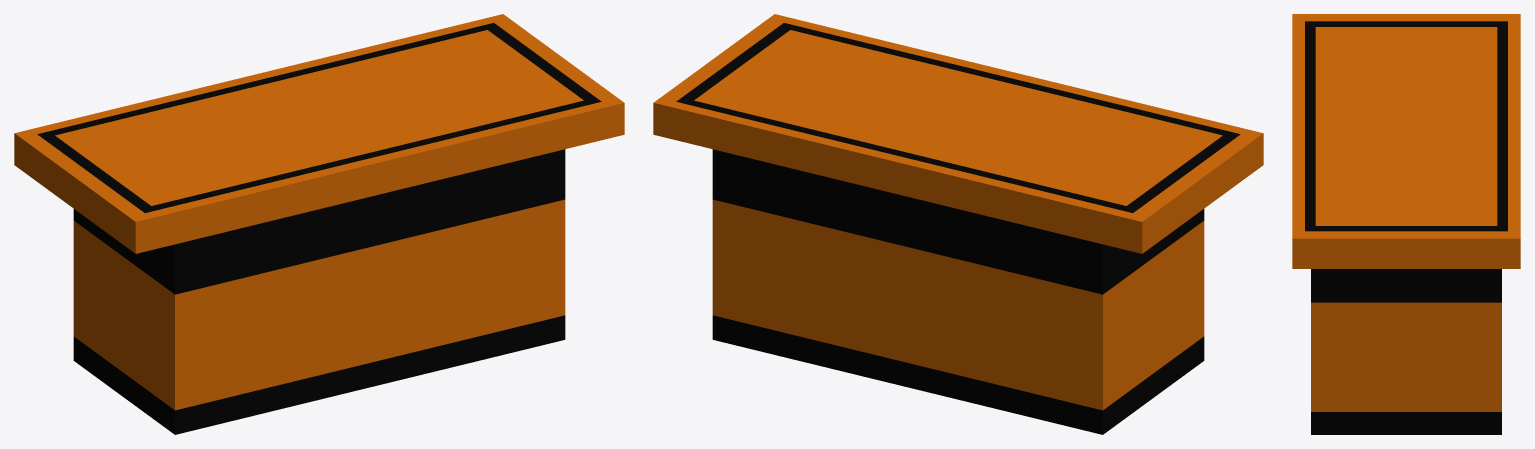
The model's file is furniture-bar.glb.
3 views of the same model, side by side, from view 1: azimuth 30°, elevation 25°; view 2: azimuth 150°, elevation 25°; view 3: azimuth 270°, elevation 25° (orthographic). The views are drawn at different scales.
Parts seen in each view (by area): view 1: BarSharp; view 2: BarSharp; view 3: BarSharp.
Boxes of the visible parts, x1,y1,x2,y2 form: BarSharp: (14, 14, 624, 434); BarSharp: (653, 14, 1263, 434); BarSharp: (1292, 14, 1520, 434).
Size of what is drawn, in the model's own units: 2.51 by 1.14 by 1.08.
